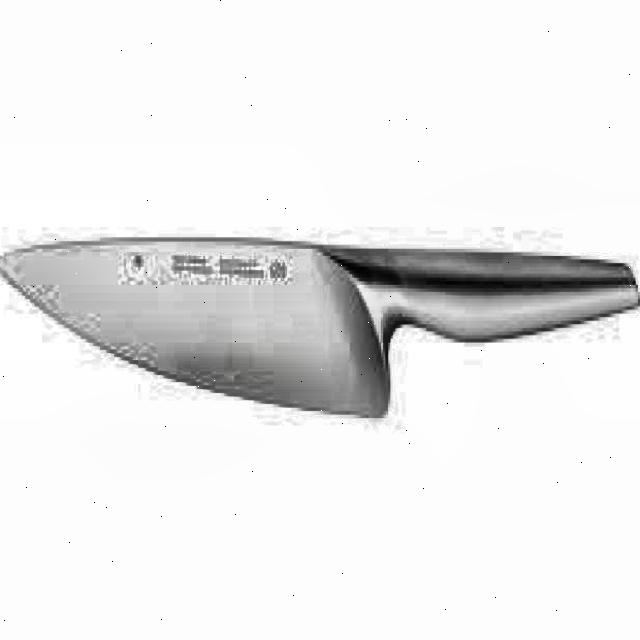knife: (0, 236, 640, 434)
